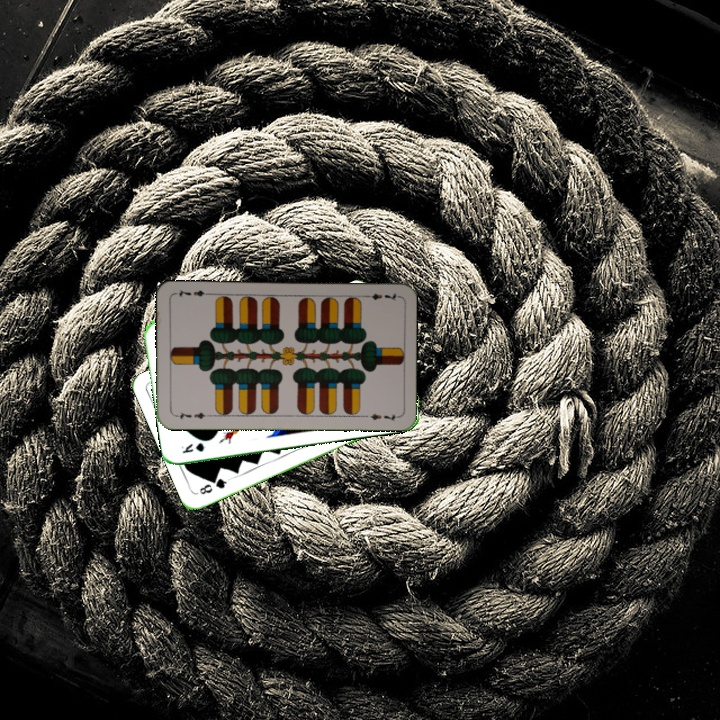E7: (171, 408, 211, 422), (360, 289, 400, 303)
G8: (195, 474, 232, 497)
GK: (177, 439, 209, 456)
